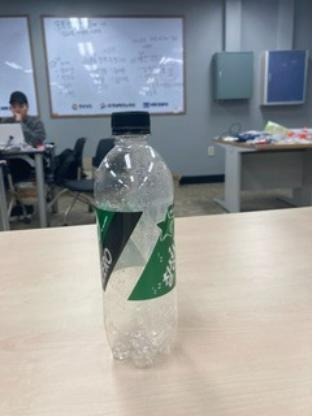Plastic Bottle: (92, 106, 180, 372)
